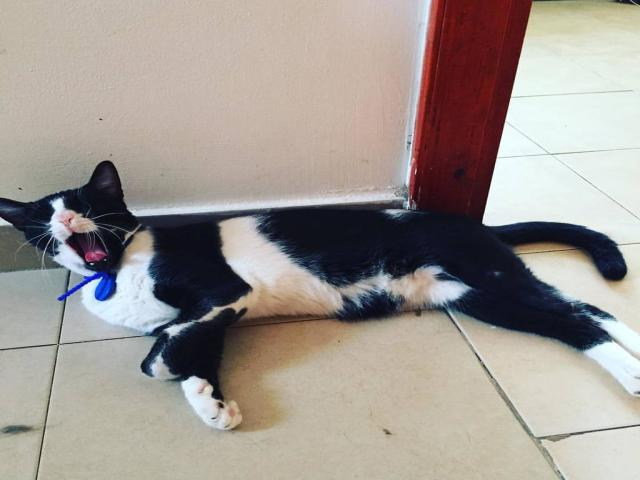Cat: (0, 159, 639, 429)
